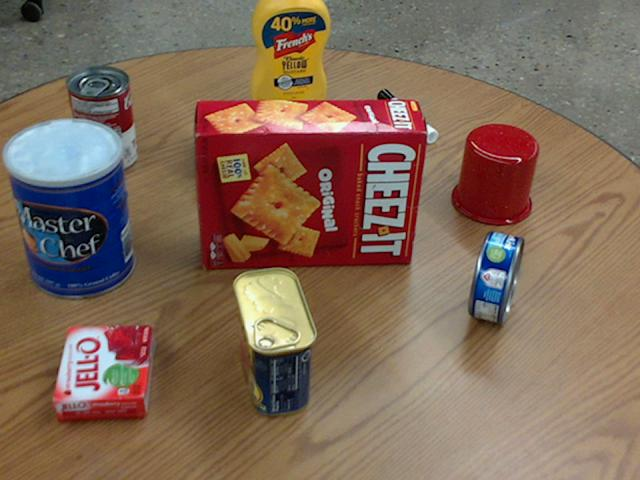cracker_box: (196, 99, 426, 267)
gelatin_box: (51, 324, 152, 420)
large_marker: (378, 88, 438, 142)
master_chef_can: (3, 119, 133, 298)
mug: (450, 123, 538, 224)
mustard_bottle: (251, 0, 330, 111)
potted_meat_can: (232, 266, 314, 414)
sugar_box: (194, 108, 349, 179)
tomato_soup_can: (67, 65, 136, 172)
tuna_fish_can: (469, 231, 523, 323)
